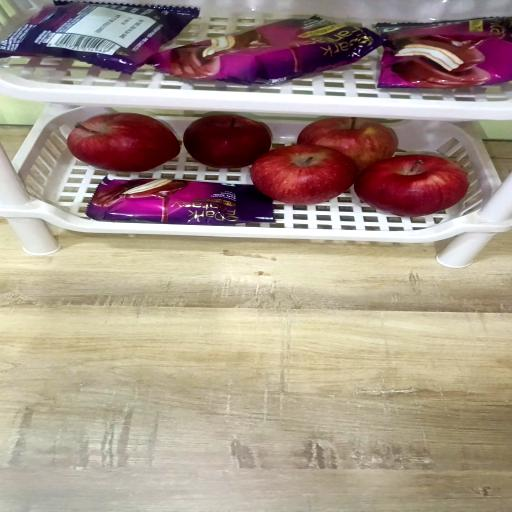Apple: (354, 158, 468, 220), (65, 111, 179, 172), (252, 143, 358, 204), (298, 116, 399, 171), (186, 113, 274, 168)
Choco Pie: (154, 16, 383, 86), (0, 0, 197, 74), (376, 18, 511, 88), (84, 180, 272, 228)
